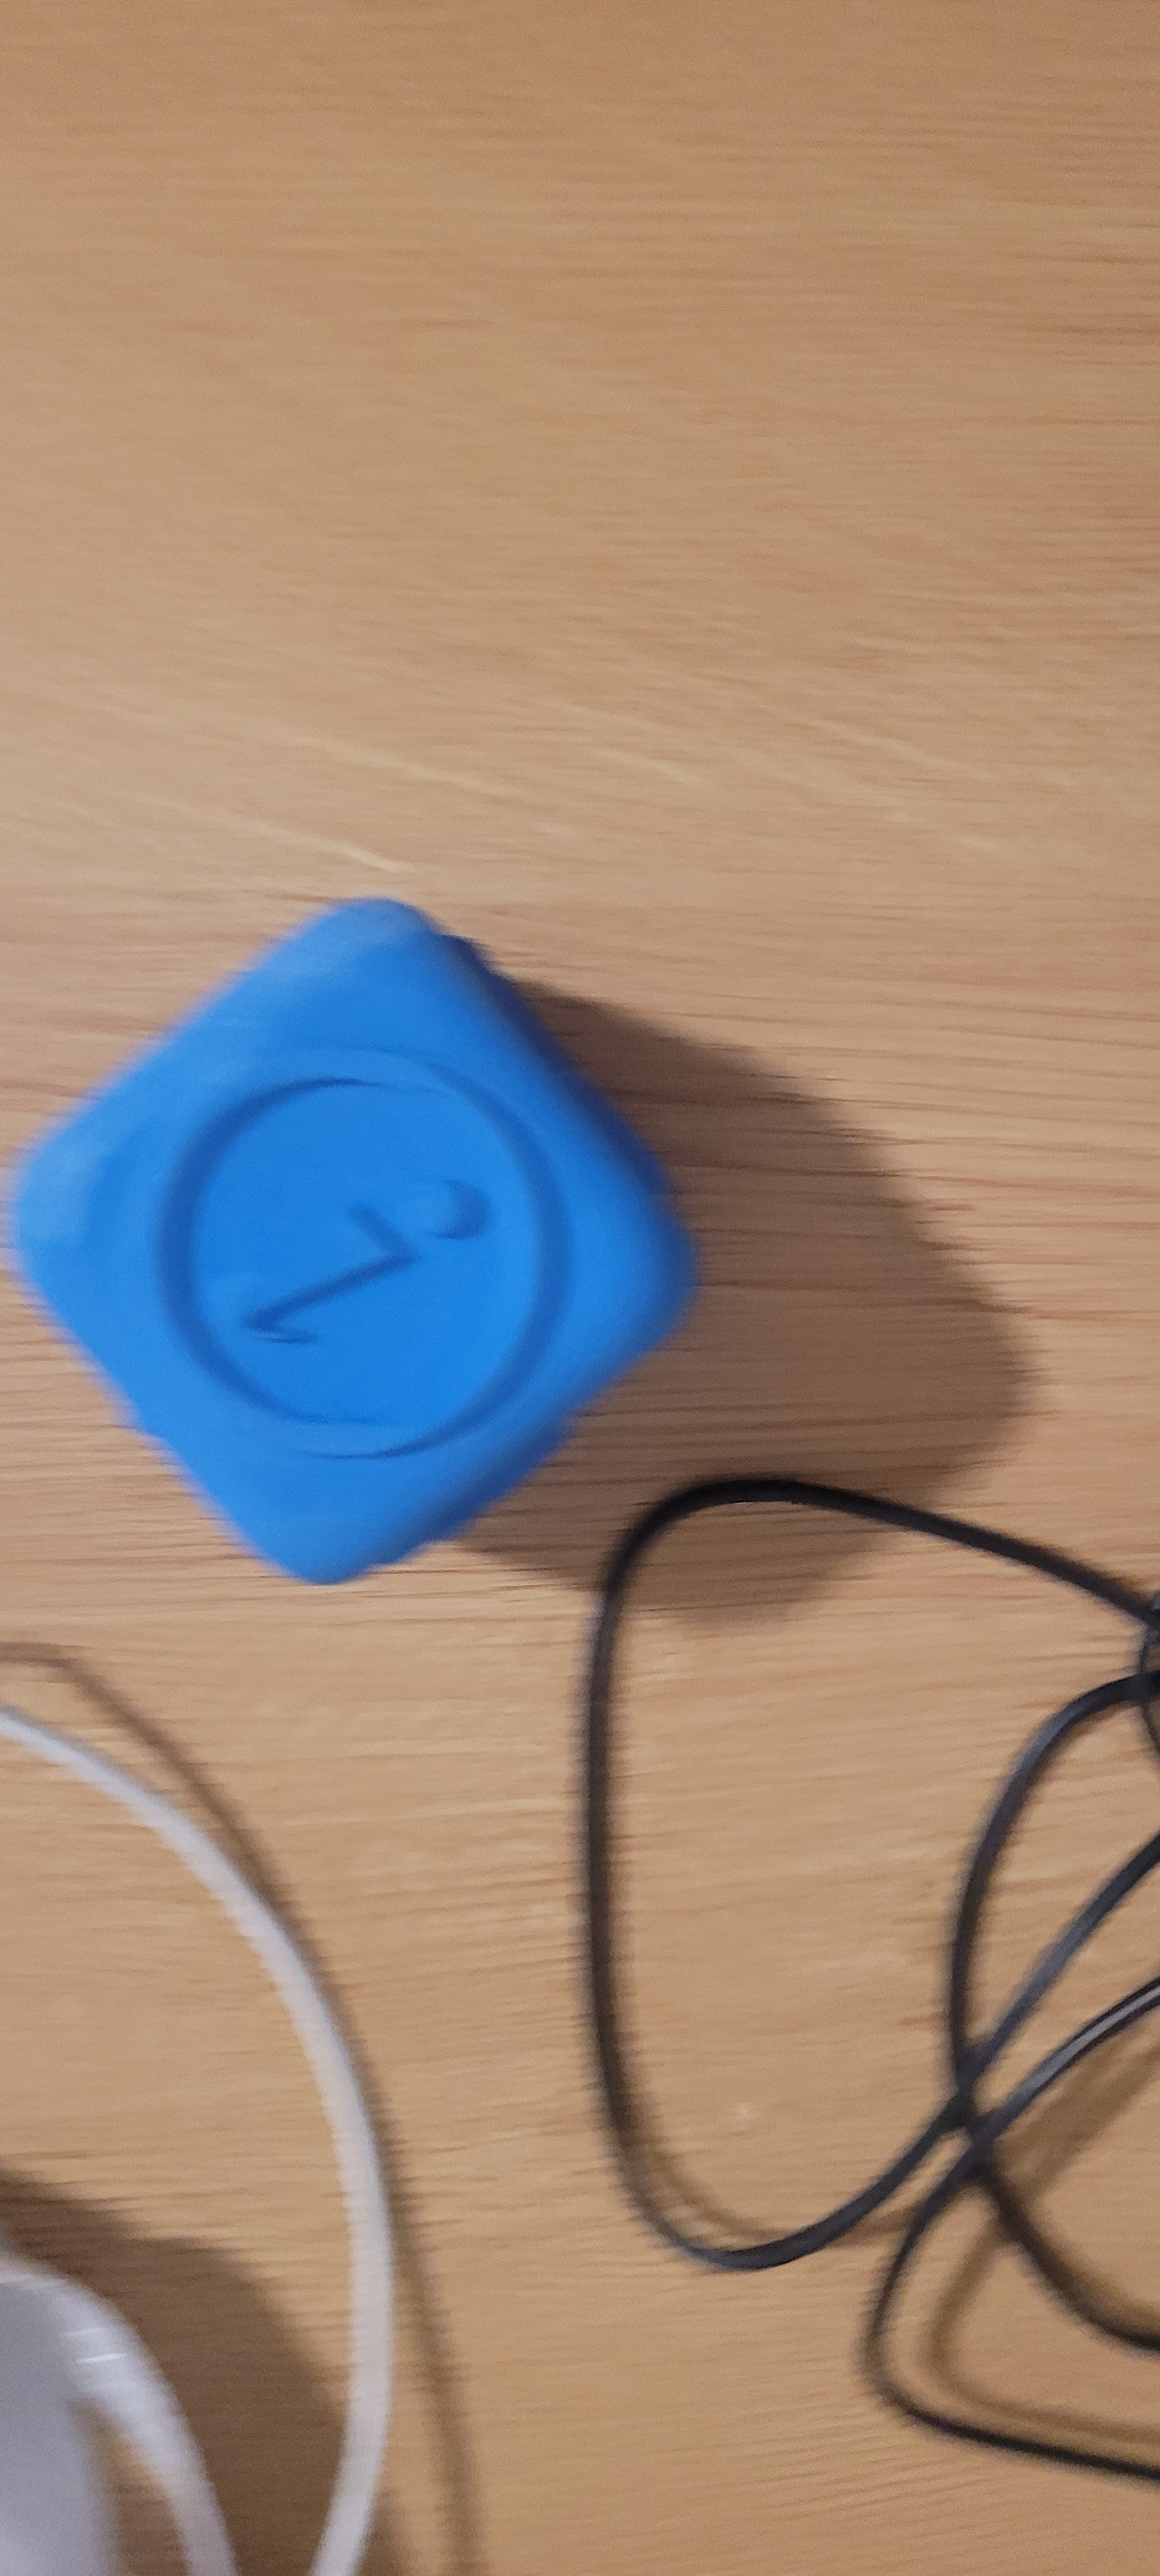Info: (92, 943, 608, 1454)
